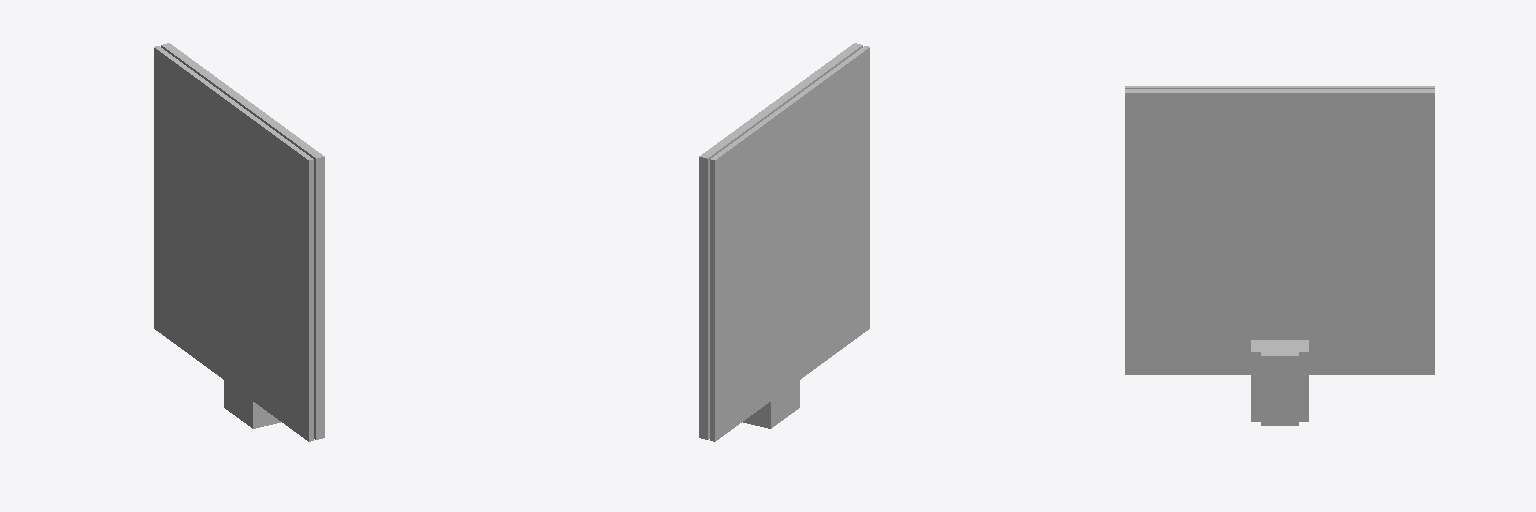
The model's file is no_refuges_medium.obj.
The picture shows the model from 3 angles: view 1: azimuth 30°, elevation 25°; view 2: azimuth 150°, elevation 25°; view 3: azimuth 270°, elevation 25°; orthographic projection.
Visible parts, largest first — view 1: cube; view 2: cube; view 3: cube.
Boxes of the visible parts, x1,y1,x2,y2 form: cube: [154, 43, 324, 441]; cube: [699, 43, 869, 441]; cube: [1125, 86, 1434, 425].
Size of the model in its own units: 0.0922 by 0.5625 by 0.5.